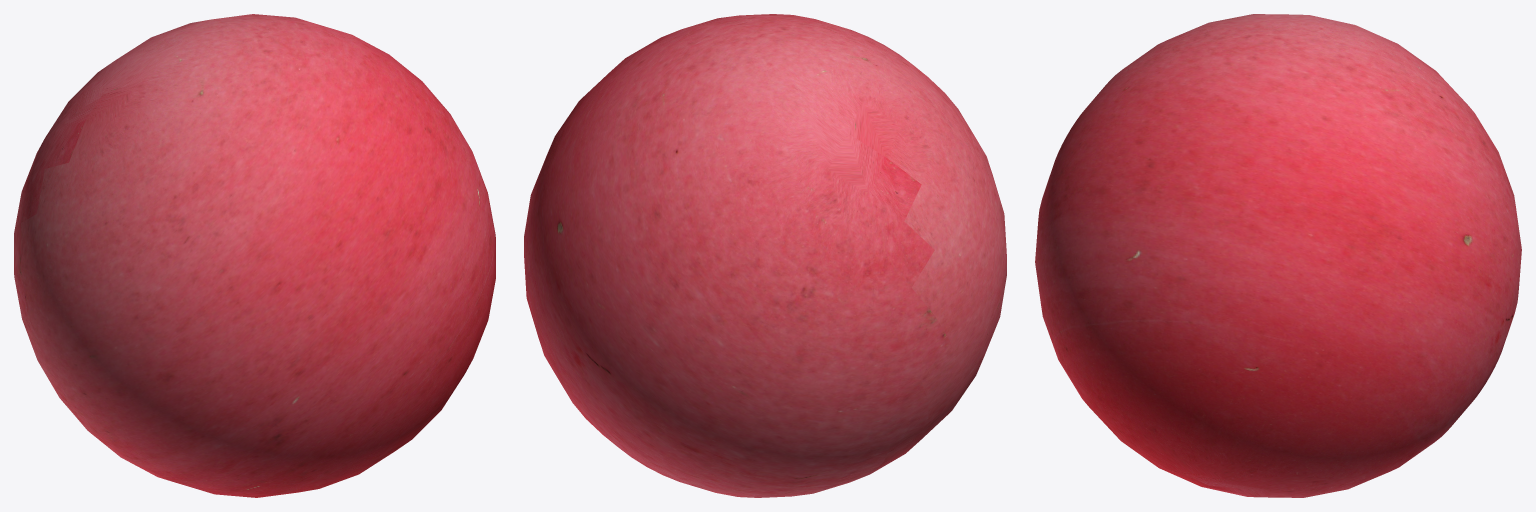
File: ball.fbx
3 views of the same model, side by side, from view 1: azimuth 30°, elevation 25°; view 2: azimuth 150°, elevation 25°; view 3: azimuth 270°, elevation 25° (orthographic).
Visible parts, largest first — view 1: ball; view 2: ball; view 3: ball.
Boxes of the visible parts, left/top/right/bottom form: ball: left=14, top=14, right=495, bottom=497; ball: left=524, top=14, right=1006, bottom=497; ball: left=1035, top=14, right=1521, bottom=497.
Size of the model in its own units: 80 by 79.97 by 79.97.
Materials: 1 (1 with a texture image).
